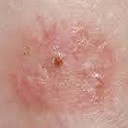Carcinoma: (51, 53, 64, 67)
